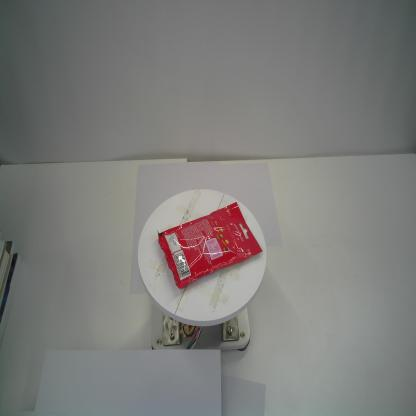Candy: (156, 201, 263, 289)
